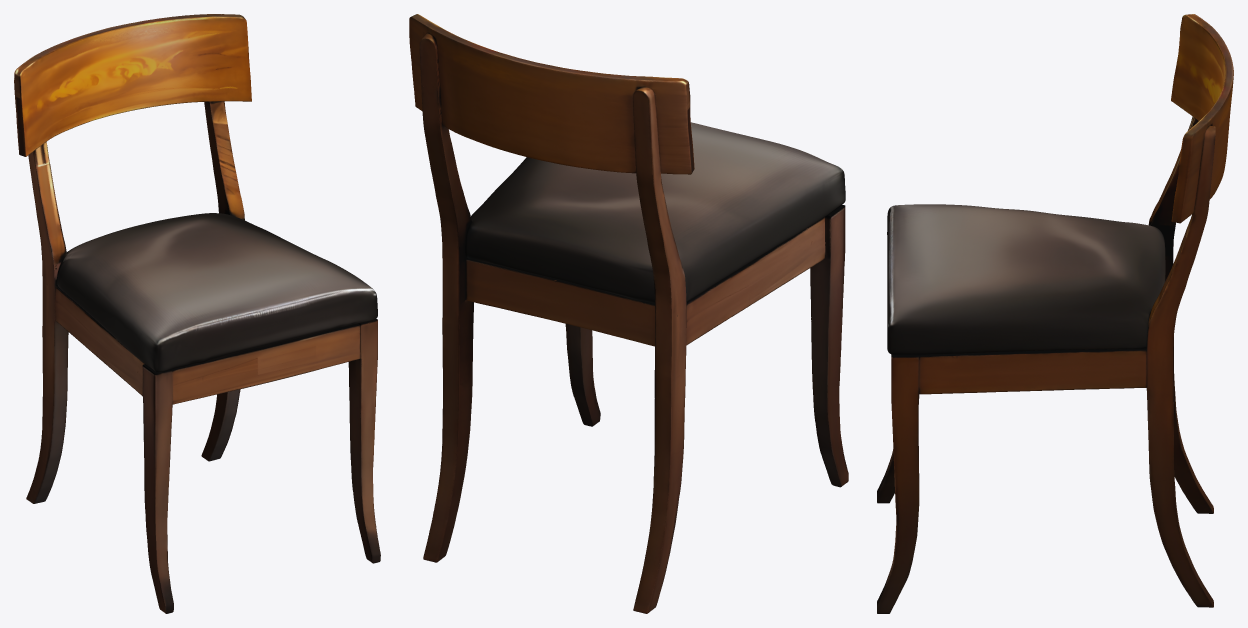
3 views of the same model, side by side, from view 1: azimuth 30°, elevation 25°; view 2: azimuth 150°, elevation 25°; view 3: azimuth 270°, elevation 25° (orthographic). The views are drawn at different scales.
Parts seen in each view (by area): view 1: root.0, root.1, root.3, root.4, root.6, root.5, root.2, root.7; view 2: root.0, root.1, root.3, root.2, root.9, root.6, root.7, root.5; view 3: root.0, root.2, root.8, root.1, root.5, root.3, root.6.
Boxes of the visible parts, bbox=[...] form: root.0: bbox=[57, 213, 377, 371]; root.1: bbox=[14, 14, 251, 156]; root.3: bbox=[26, 142, 68, 503]; root.4: bbox=[171, 324, 360, 404]; root.6: bbox=[142, 364, 173, 613]; root.5: bbox=[348, 318, 380, 563]; root.2: bbox=[201, 101, 244, 461]; root.7: bbox=[55, 286, 144, 396]; root.0: bbox=[465, 122, 845, 303]; root.1: bbox=[409, 14, 694, 174]; root.3: bbox=[633, 87, 686, 613]; root.2: bbox=[419, 33, 473, 562]; root.9: bbox=[466, 258, 654, 346]; root.6: bbox=[810, 204, 848, 487]; root.7: bbox=[686, 217, 825, 345]; root.5: bbox=[565, 324, 600, 426]; root.0: bbox=[887, 204, 1165, 354]; root.2: bbox=[1146, 125, 1215, 607]; root.8: bbox=[918, 348, 1146, 394]; root.1: bbox=[1171, 14, 1233, 223]; root.5: bbox=[877, 354, 919, 613]; root.3: bbox=[1148, 116, 1213, 513]; root.6: bbox=[877, 392, 919, 503].
Size of the model in its own units: 0.426 by 0.78 by 0.5198.
10 materials, 10 textured.
